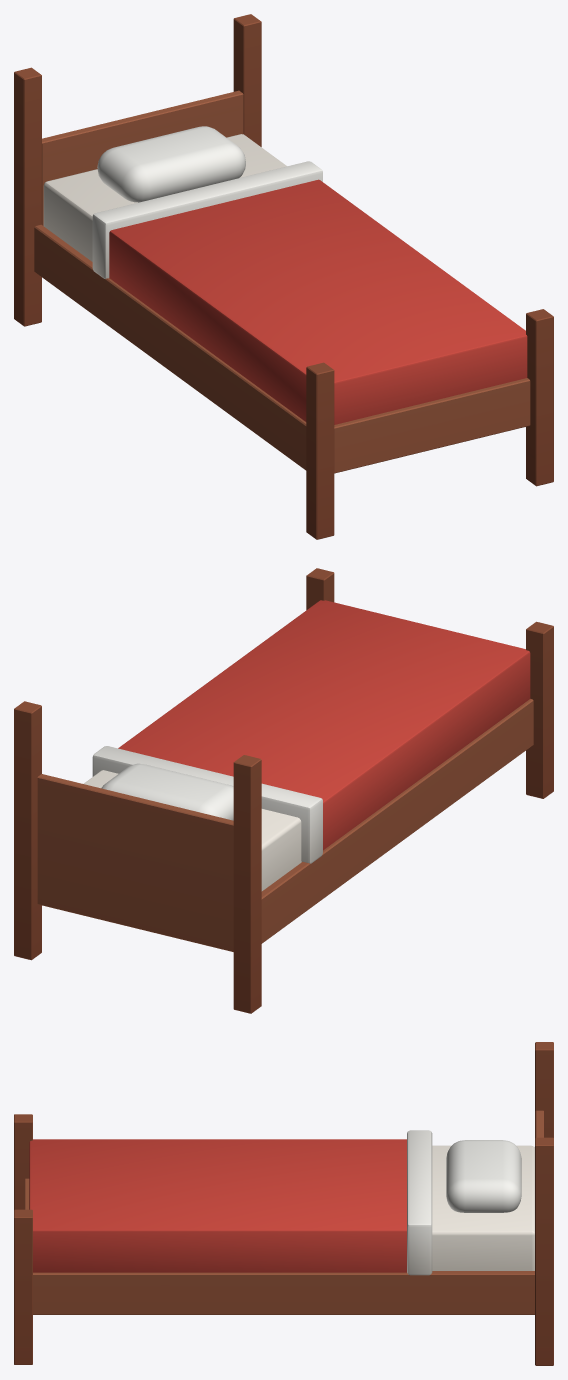
The model's file is SingleBedRed.glb.
3 views of the same model, one above another, from view 1: azimuth 30°, elevation 25°; view 2: azimuth 150°, elevation 25°; view 3: azimuth 270°, elevation 25° (orthographic). The views are drawn at different scales.
Parts seen in each view (by area): view 1: SingleBedRed; view 2: SingleBedRed; view 3: SingleBedRed.
Part boxes in pixels (x1,y1,x2,y2): SingleBedRed: (14, 14, 553, 539); SingleBedRed: (14, 568, 553, 1013); SingleBedRed: (14, 1042, 553, 1365).
Bounding box in the file's own units: 0.9735 × 0.9694 × 2.15.
1 material, 1 textured.
